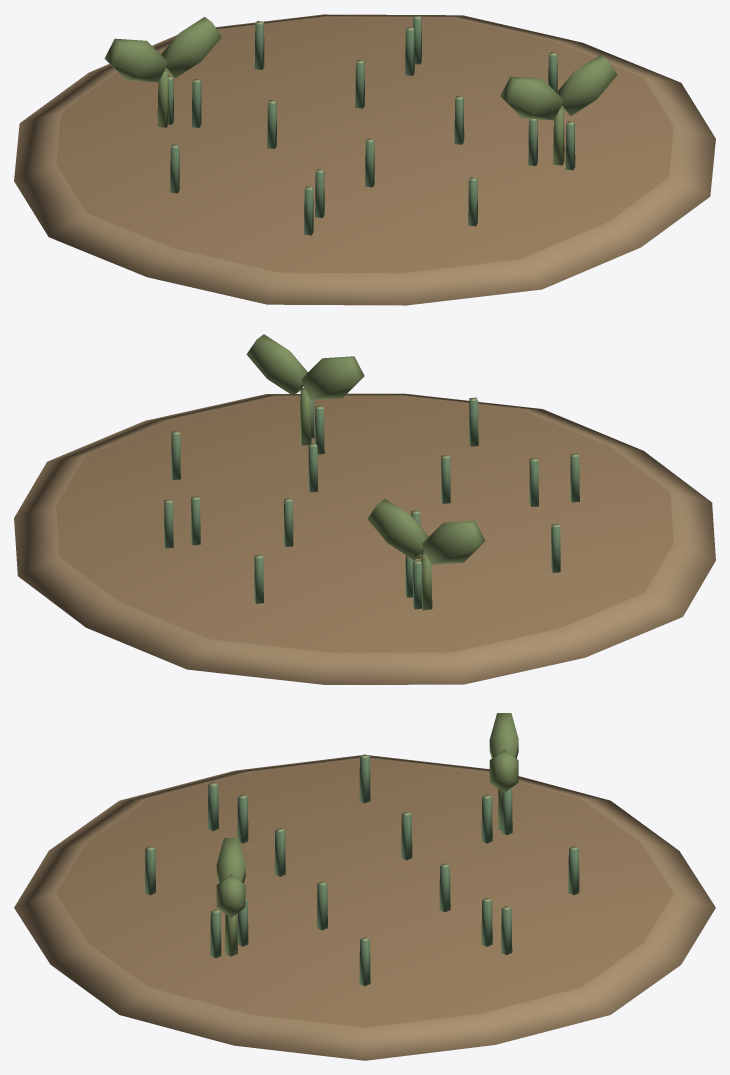
The model's file is flax_patch_gathered.glb.
3 views of the same model, one above another, from view 1: azimuth 30°, elevation 25°; view 2: azimuth 150°, elevation 25°; view 3: azimuth 270°, elevation 25° (orthographic).
Parts seen in each view (by area): view 1: flax_patch_gathered; view 2: flax_patch_gathered; view 3: flax_patch_gathered.
Part boxes in pixels (<box>): flax_patch_gathered: <box>14,14,715,305</box>; flax_patch_gathered: <box>14,334,715,684</box>; flax_patch_gathered: <box>14,713,715,1060</box>.
Bounding box in the file's own units: 1.3 × 0.2335 × 1.26.
